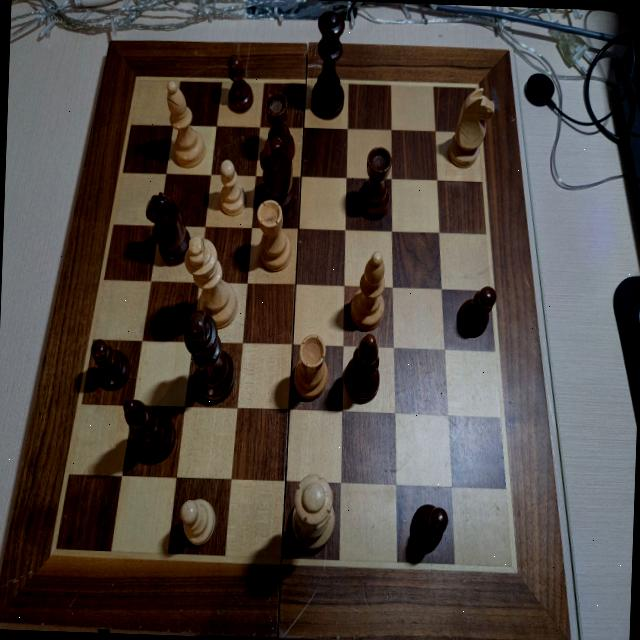black_bishop: (120, 398, 176, 463), (343, 331, 381, 402)
black_king: (181, 308, 237, 404)
black_knight: (144, 191, 189, 264), (256, 136, 296, 216)
black_pawn: (456, 284, 496, 338), (88, 338, 130, 389), (409, 503, 449, 552), (224, 52, 253, 112)
black_queen: (310, 11, 348, 118)
black_rook: (356, 144, 392, 220), (264, 90, 296, 162)
white_bishop: (164, 78, 208, 166), (348, 248, 386, 330)
white_king: (182, 234, 240, 324)
white_knight: (446, 85, 496, 169)
white_pawn: (178, 497, 217, 549), (216, 158, 246, 216)
white_queen: (290, 472, 337, 554)
white_rook: (255, 199, 293, 273), (294, 334, 331, 402)
